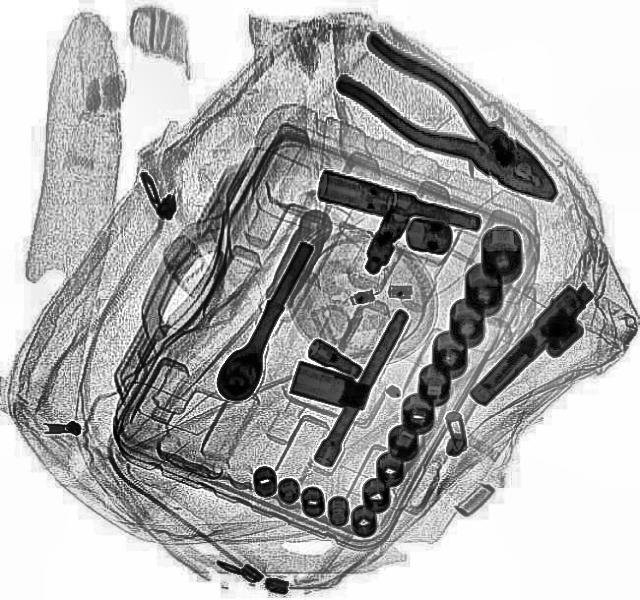Gun: (458, 274, 612, 418)
Pliers: (324, 25, 580, 226)
